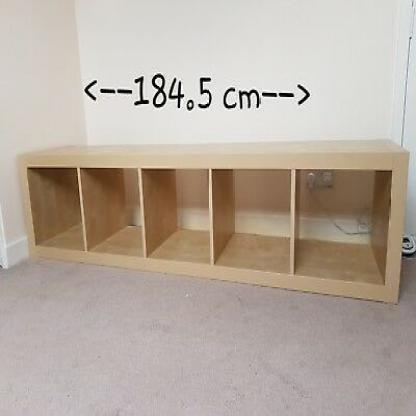lamp: (15, 137, 410, 307)
